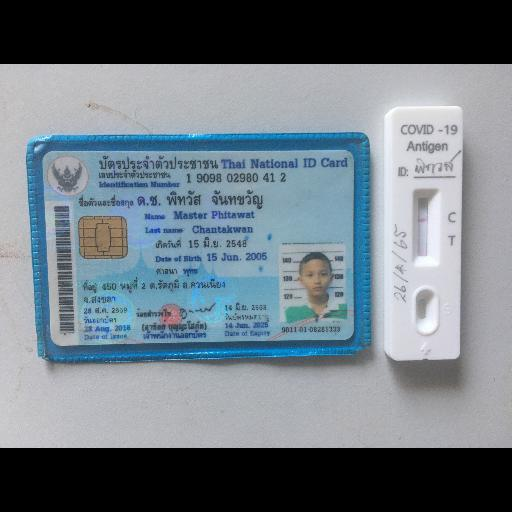Neg: (390, 108, 462, 360)
